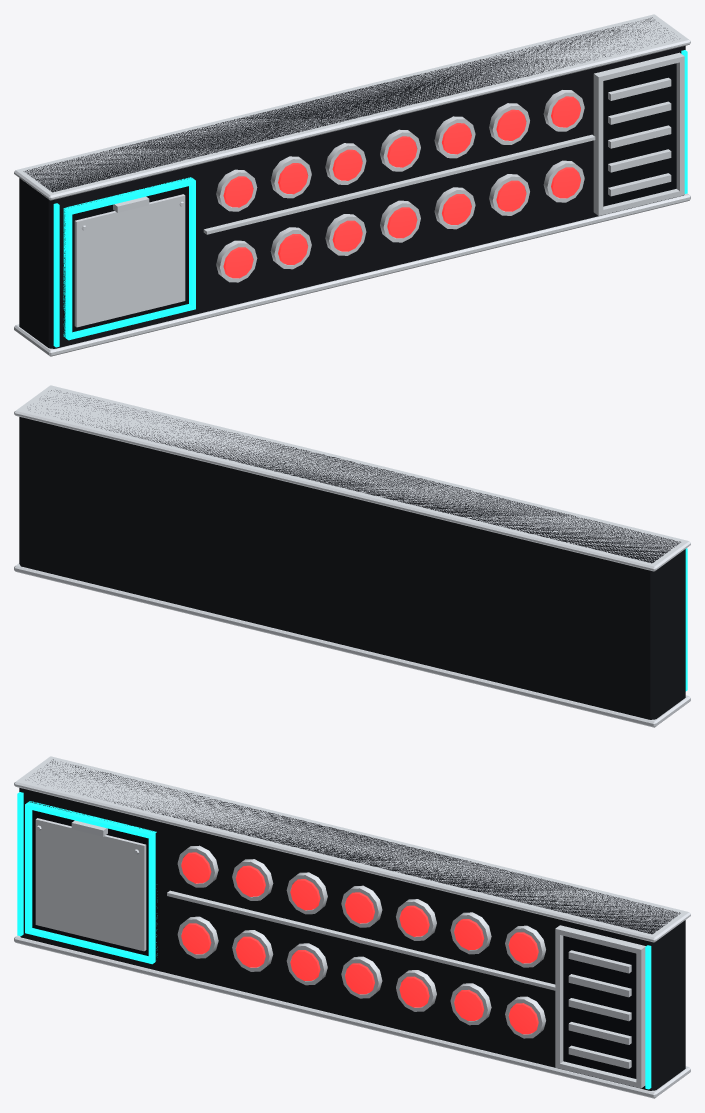
Rendered from rb_round_twin.glb.
The picture shows the model from 3 angles, top to bottom: view 1: azimuth 30°, elevation 25°; view 2: azimuth 150°, elevation 25°; view 3: azimuth 330°, elevation 25°; orthographic projection.
Visible parts, largest first — view 1: rb_round_twin_deco_body, rb_round_twin_chrome, rb_round_twin_deco_plate, rb_round_twin_lamp_tail, rb_round_twin_deco_trim, rb_round_twin_deco_neon; view 2: rb_round_twin_deco_body, rb_round_twin_chrome; view 3: rb_round_twin_deco_body, rb_round_twin_chrome, rb_round_twin_deco_plate, rb_round_twin_lamp_tail, rb_round_twin_deco_trim, rb_round_twin_deco_neon.
Boxes of the visible parts, bbox=[...] form: rb_round_twin_deco_body: bbox=[19, 17, 685, 348]; rb_round_twin_chrome: bbox=[14, 14, 690, 356]; rb_round_twin_deco_plate: bbox=[74, 194, 185, 327]; rb_round_twin_lamp_tail: bbox=[223, 96, 580, 278]; rb_round_twin_deco_trim: bbox=[63, 63, 676, 337]; rb_round_twin_deco_neon: bbox=[53, 50, 687, 347]; rb_round_twin_deco_body: bbox=[19, 390, 685, 719]; rb_round_twin_chrome: bbox=[14, 385, 690, 727]; rb_round_twin_deco_body: bbox=[19, 759, 685, 1090]; rb_round_twin_chrome: bbox=[14, 756, 690, 1098]; rb_round_twin_deco_plate: bbox=[35, 818, 146, 951]; rb_round_twin_lamp_tail: bbox=[181, 852, 538, 1034]; rb_round_twin_deco_trim: bbox=[30, 801, 636, 1078]; rb_round_twin_deco_neon: bbox=[17, 792, 651, 1089].
Bounding box in the file's own units: 2.42 × 0.58 × 0.273.
